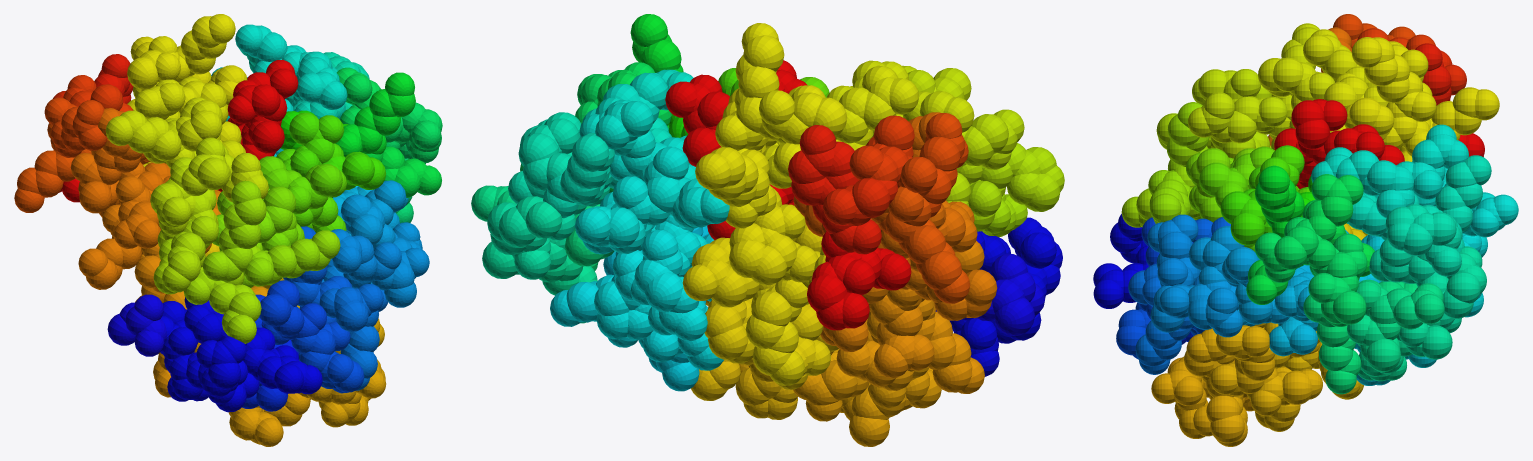
The model's file is 1mbn__spheres__rainbow.glb.
The picture shows the model from 3 angles, left to right: view 1: azimuth 30°, elevation 25°; view 2: azimuth 150°, elevation 25°; view 3: azimuth 270°, elevation 25°; orthographic projection. The views are drawn at different scales.
Visible parts, largest first — view 1: Renderer Node; view 2: Renderer Node; view 3: Renderer Node.
Boxes of the visible parts, left/top/right/bottom form: Renderer Node: left=14, top=14, right=442, bottom=446; Renderer Node: left=471, top=14, right=1064, bottom=446; Renderer Node: left=1093, top=14, right=1518, bottom=446.
Size of the model in its own units: 45.93 by 42.13 by 41.97.
